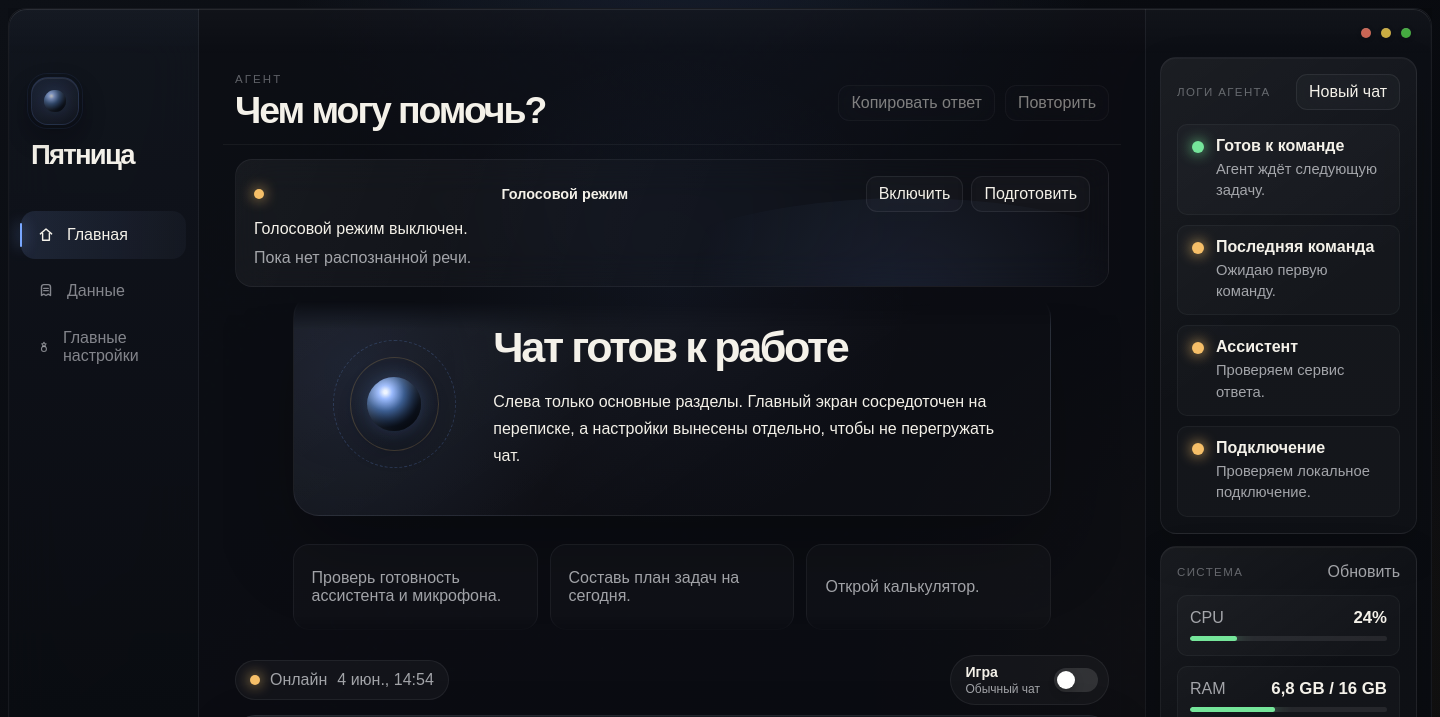
Test case: FridayApp › does not expose the managed AI key in settings
Click the button "Главные настройки".
click(104, 347)  # box x1=21 y1=323 x2=186 y2=371
(page scrolled)
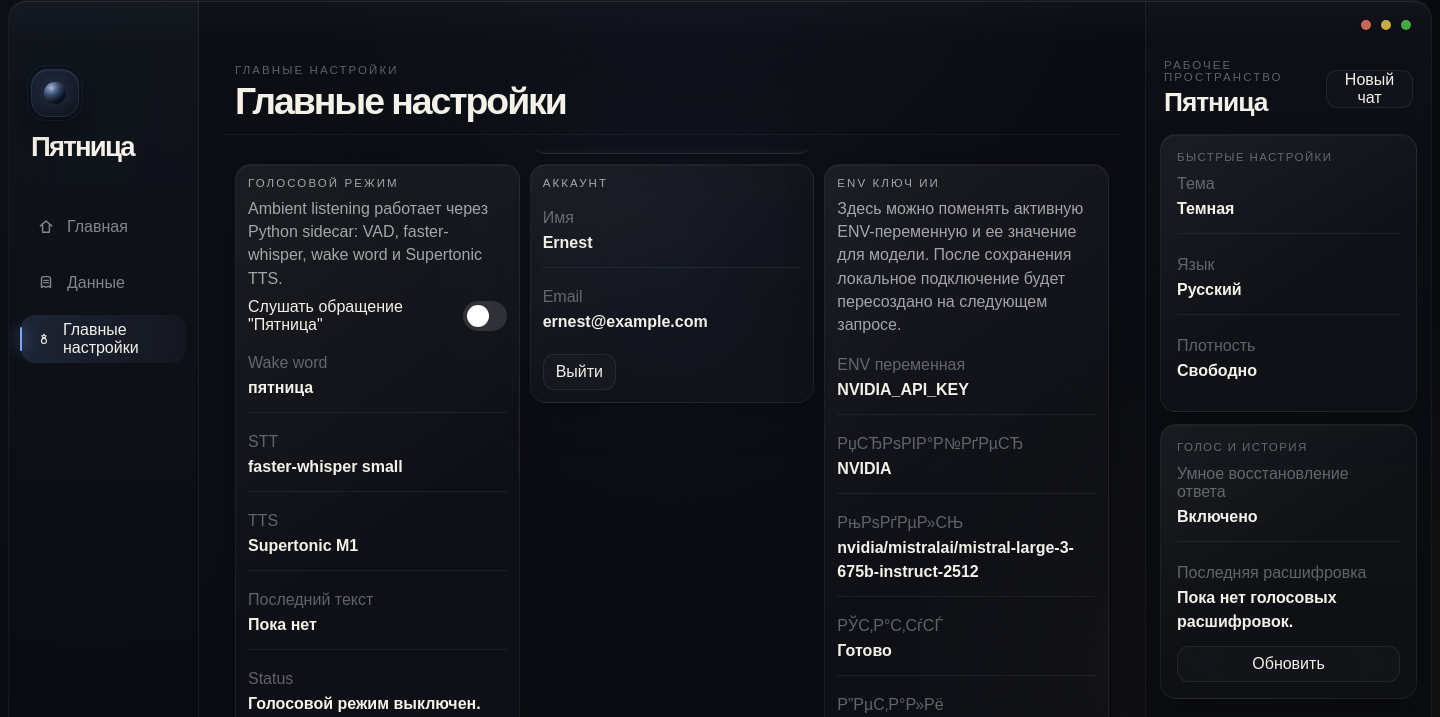
Check: the text "NVIDIA" is shown, box x1=837 y1=460 x2=892 y2=477
